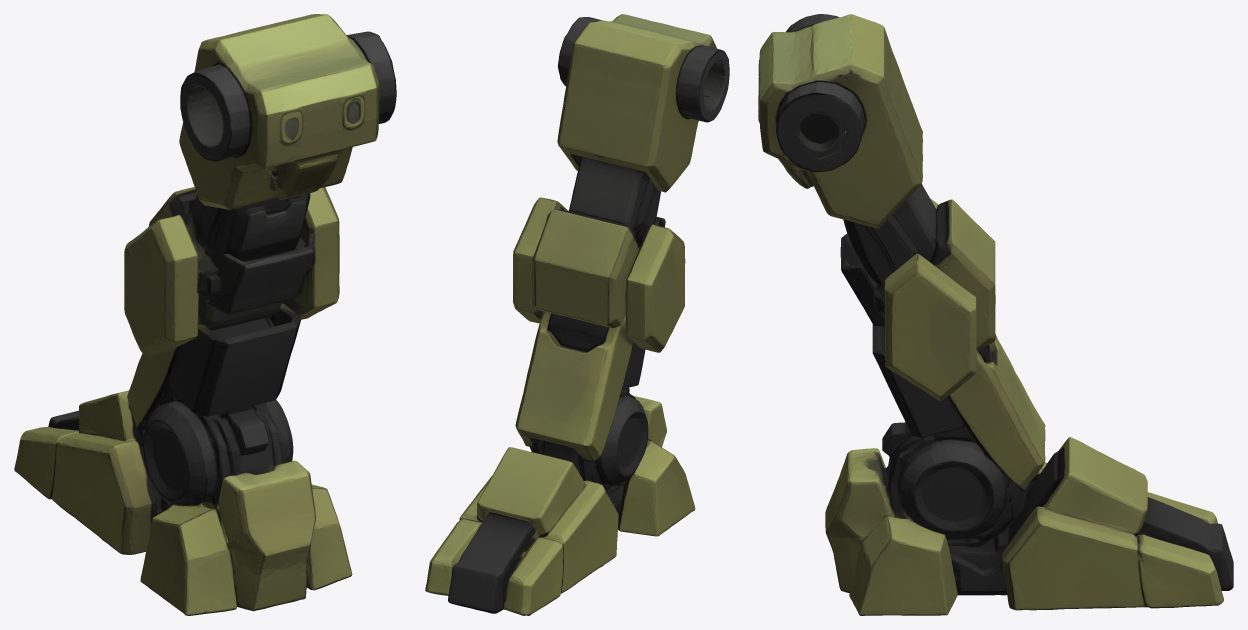
The model's file is legs.glb.
3 views of the same model, side by side, from view 1: azimuth 30°, elevation 25°; view 2: azimuth 150°, elevation 25°; view 3: azimuth 270°, elevation 25° (orthographic). The views are drawn at different scales.
Visible parts, largest first — view 1: geometry_0; view 2: geometry_0; view 3: geometry_0.
Part boxes in pixels (left/top/right/bottom): geometry_0: left=14, top=14, right=396, bottom=615; geometry_0: left=425, top=14, right=729, bottom=615; geometry_0: left=758, top=14, right=1233, bottom=615.
Bounding box in the file's own units: 0.3211 × 1 × 0.7923.
1 material, 1 textured.
